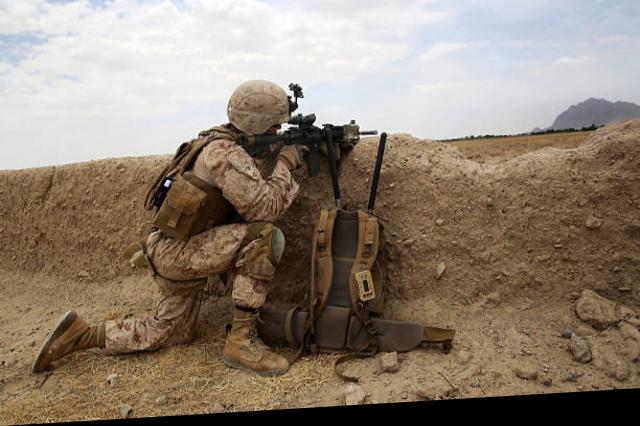other: (164, 77, 314, 383)
